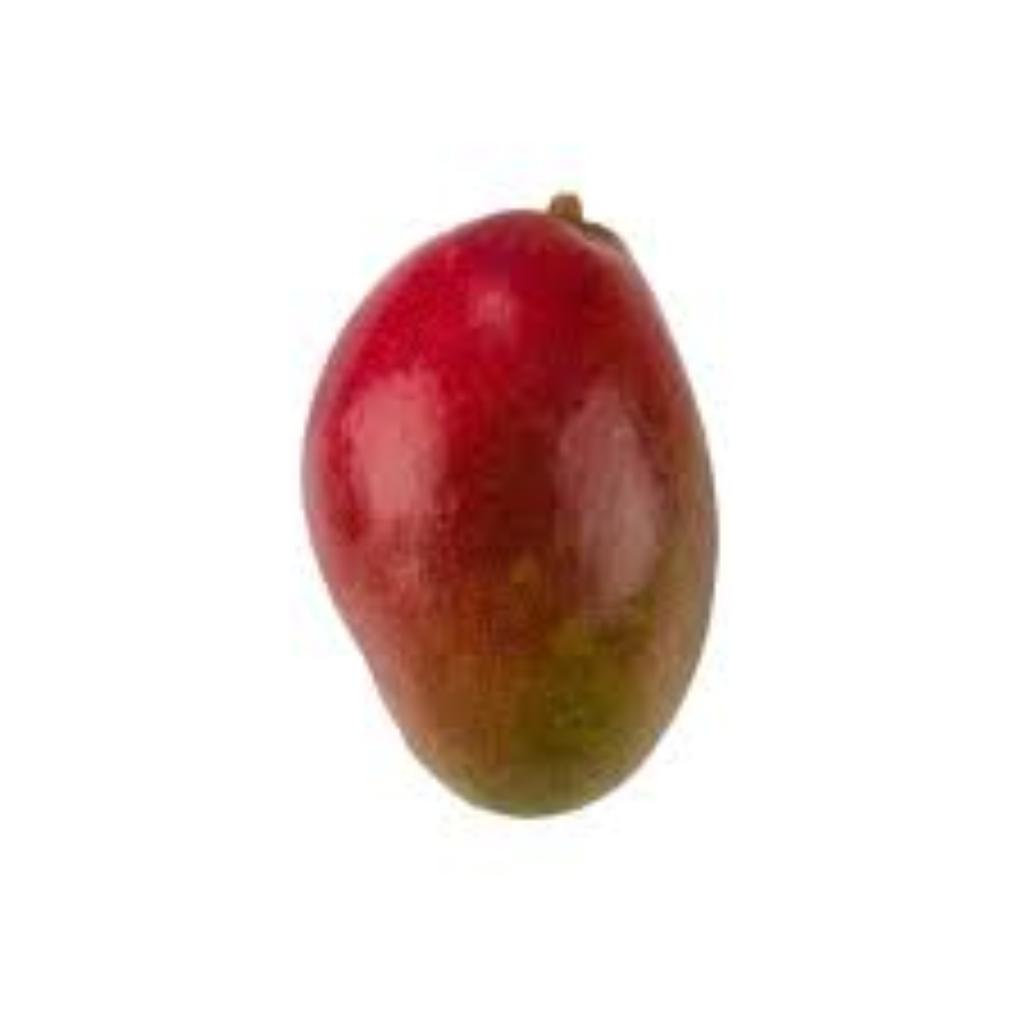mango: (300, 196, 724, 824)
